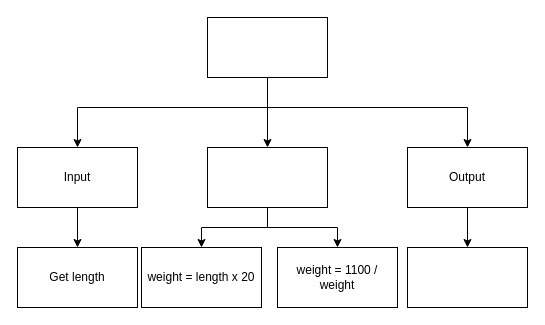
The diagram is 545 pixels wide and 325 high, and some of its shapes have lost their labels. The centre of each missing label's shape, as x and y in pixels:
Print the number of logs that weight returns: (x=467, y=277)
Process: (x=267, y=177)
Wood Weight Program: (x=267, y=47)
